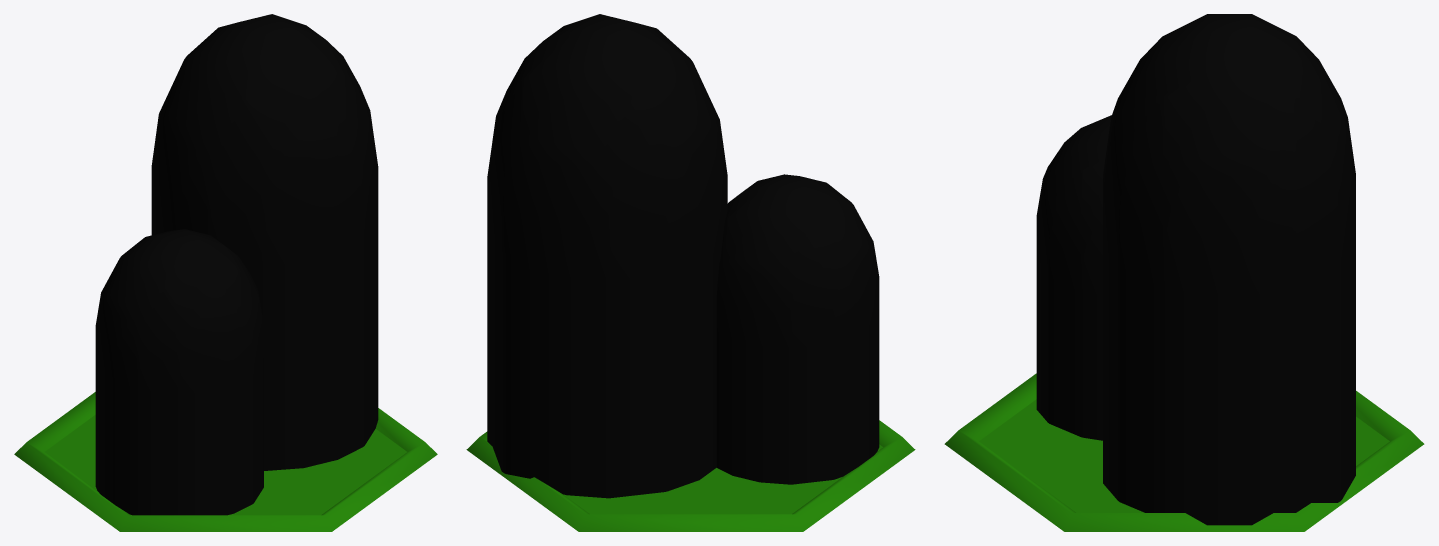
Rendered from pastry-mountains.glb.
3 renders of one model, left to right at view 1: azimuth 30°, elevation 25°; view 2: azimuth 150°, elevation 25°; view 3: azimuth 270°, elevation 25°, orthographic. The views are drawn at different scales.
Parts seen in each view (by area): view 1: Mball.002, Mball.001, HexagonTile.013; view 2: Mball.002, Mball.001, HexagonTile.013; view 3: Mball.002, HexagonTile.013, Mball.001.
Boxes of the visible parts, x1,y1,x2,y2 form: Mball.002: [151, 14, 378, 470]; Mball.001: [95, 229, 263, 515]; HexagonTile.013: [14, 392, 437, 531]; Mball.002: [487, 14, 727, 498]; Mball.001: [716, 174, 879, 484]; HexagonTile.013: [466, 420, 915, 531]; Mball.002: [1103, 14, 1355, 525]; HexagonTile.013: [944, 373, 1424, 531]; Mball.001: [1036, 115, 1111, 440].
Bounding box in the file's own units: 1.73 × 2.08 × 2.
2 materials, 1 textured.
